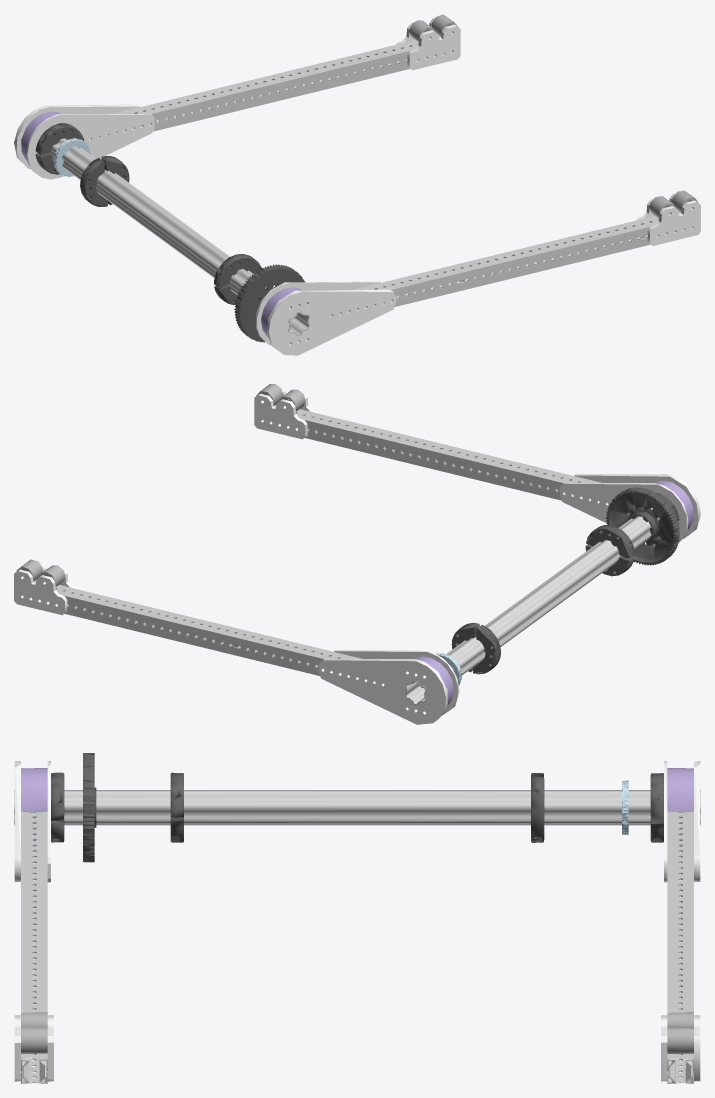
Rendered from SupportArms.dae.
The picture shows the model from 3 angles, top to bottom: view 1: azimuth 30°, elevation 25°; view 2: azimuth 150°, elevation 25°; view 3: azimuth 270°, elevation 25°; orthographic projection. The views are drawn at different scales.
Parts seen in each view (by area): view 1: SupportArms; view 2: SupportArms; view 3: SupportArms.
Boxes of the visible parts, x1=… form: SupportArms: x1=14, y1=14, x2=700, y2=355; SupportArms: x1=14, y1=384, x2=700, y2=724; SupportArms: x1=14, y1=753, x2=700, y2=1083.
Size of the model in its own units: 0.6472 by 0.6541 by 0.1041.
